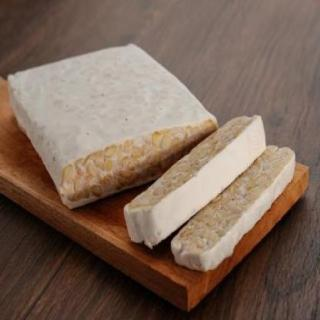Tempe: (7, 43, 219, 211)
